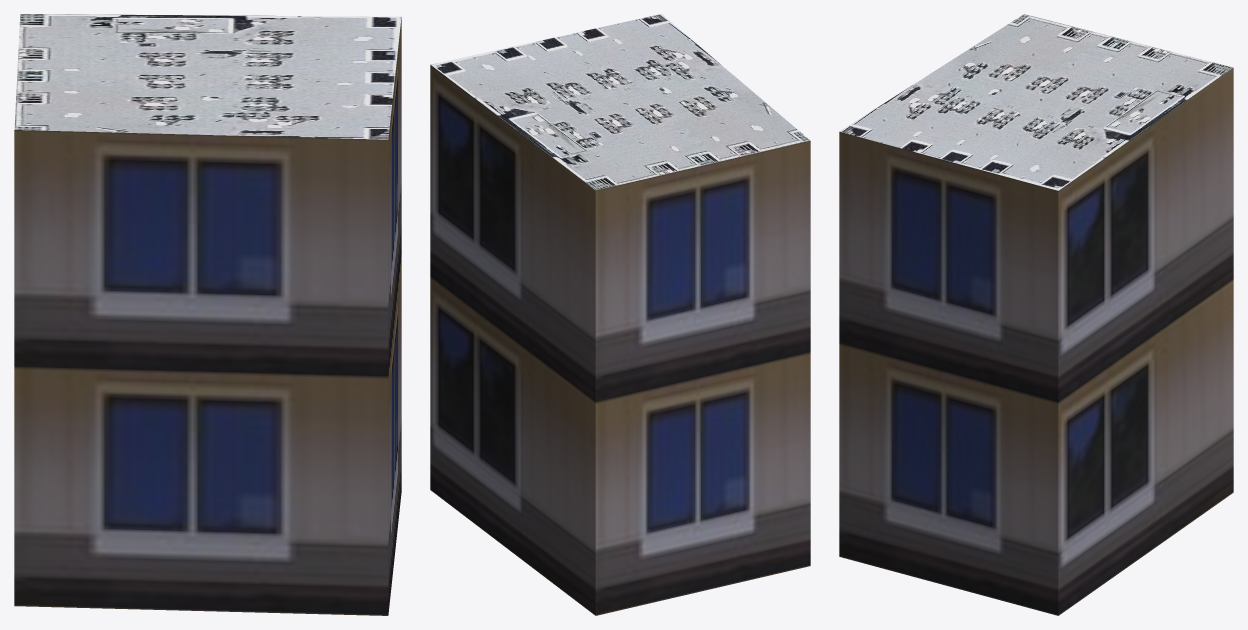
Rendered from ResTex__2025.fbx.
The picture shows the model from 3 angles, left to right: view 1: azimuth 30°, elevation 25°; view 2: azimuth 150°, elevation 25°; view 3: azimuth 270°, elevation 25°; orthographic projection. The views are drawn at different scales.
Parts seen in each view (by area): view 1: CityEngineMaterial_5_m, CityEngineMaterial_8_m; view 2: CityEngineMaterial_5_m, CityEngineMaterial_8_m; view 3: CityEngineMaterial_5_m, CityEngineMaterial_8_m.
Part boxes in pixels (x1,y1,x2,y2): CityEngineMaterial_5_m: (14, 17, 401, 615); CityEngineMaterial_8_m: (14, 14, 401, 139); CityEngineMaterial_5_m: (430, 65, 810, 615); CityEngineMaterial_8_m: (431, 14, 809, 190); CityEngineMaterial_5_m: (839, 68, 1233, 615); CityEngineMaterial_8_m: (839, 14, 1232, 190).
Size of the model in its own units: 5.36 by 6 by 5.04.
2 materials, 2 textured.
